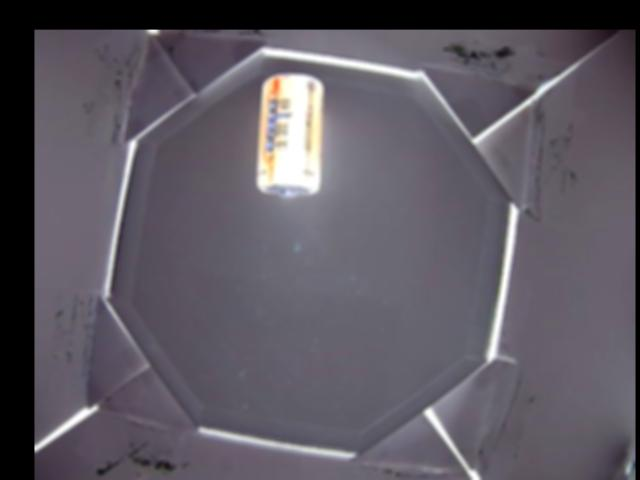Battery: (257, 73, 324, 197)
